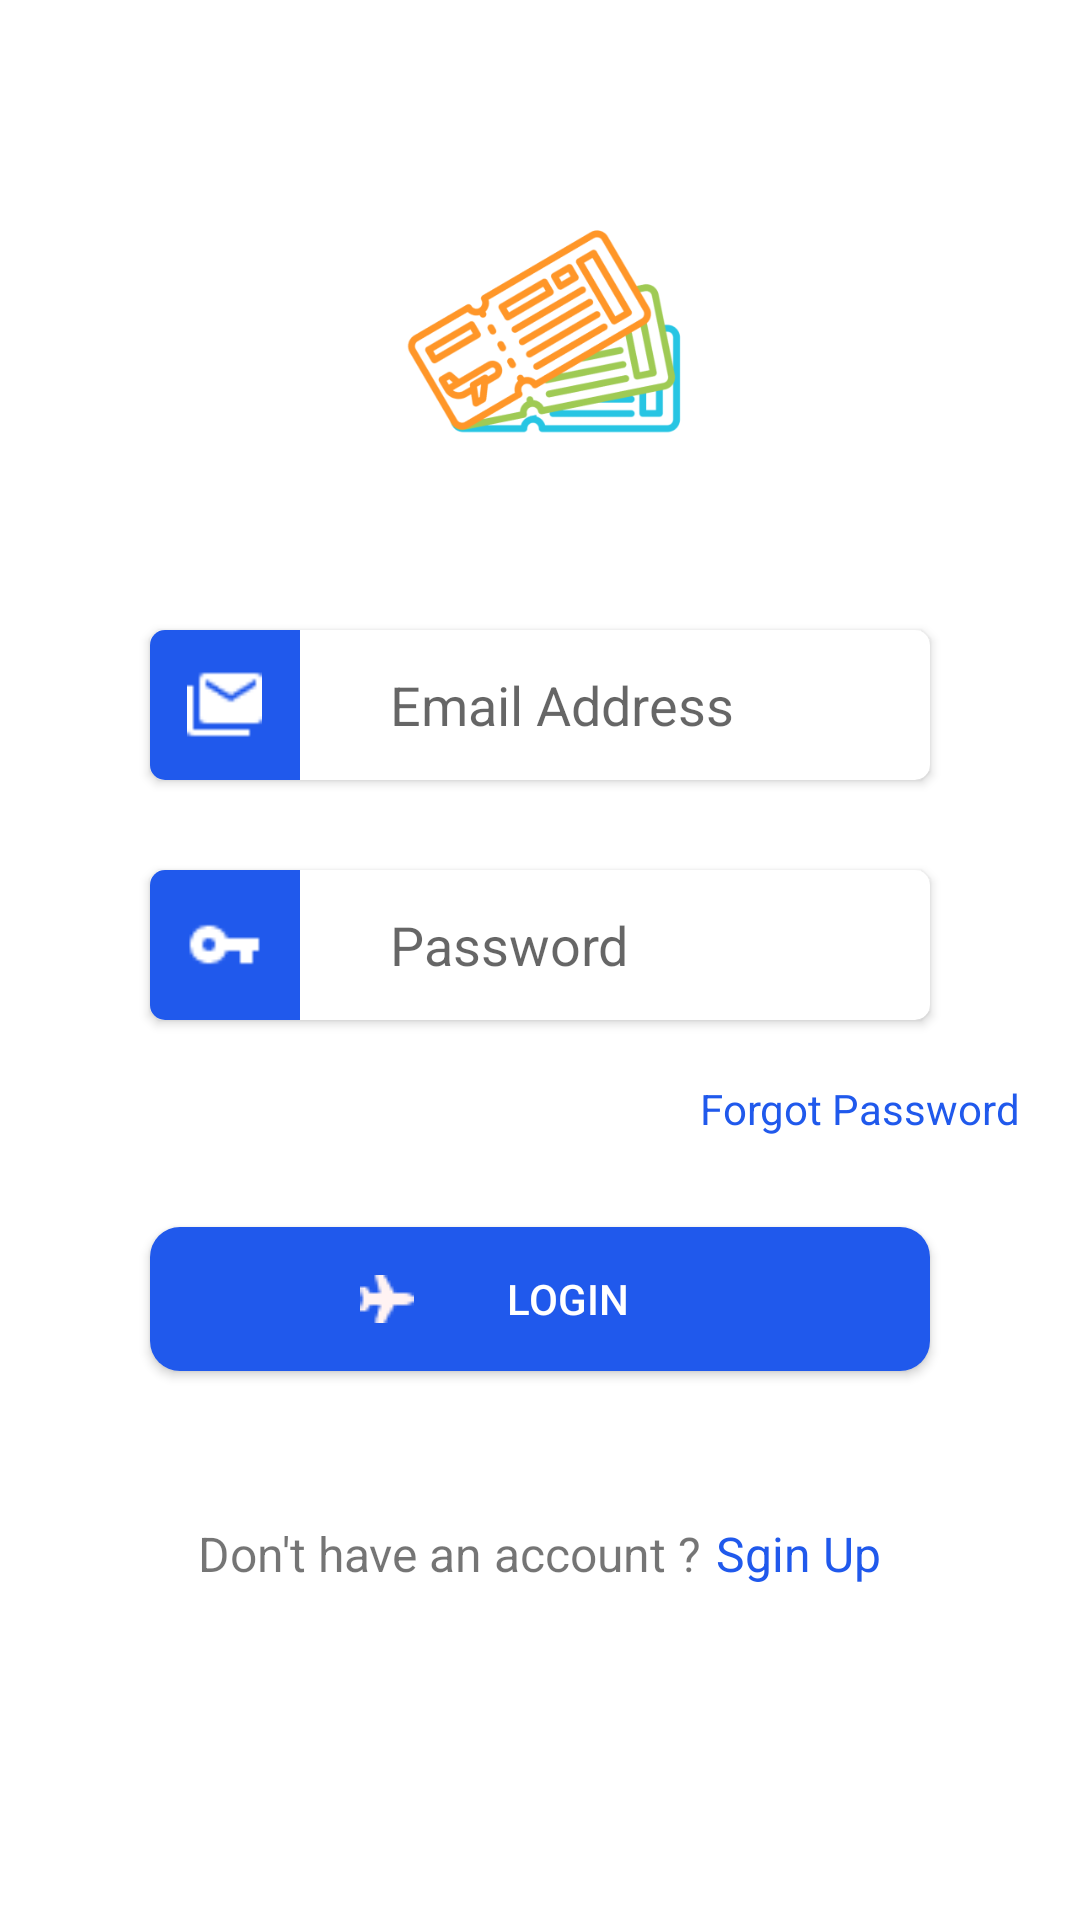

Named icons in this screenshot (1080 x 1920) and their bounding boxes, bbox=[x1, y1, x2, y2]:
email multiple: bbox=[187, 672, 262, 737]
vpn key: bbox=[189, 925, 260, 964]
